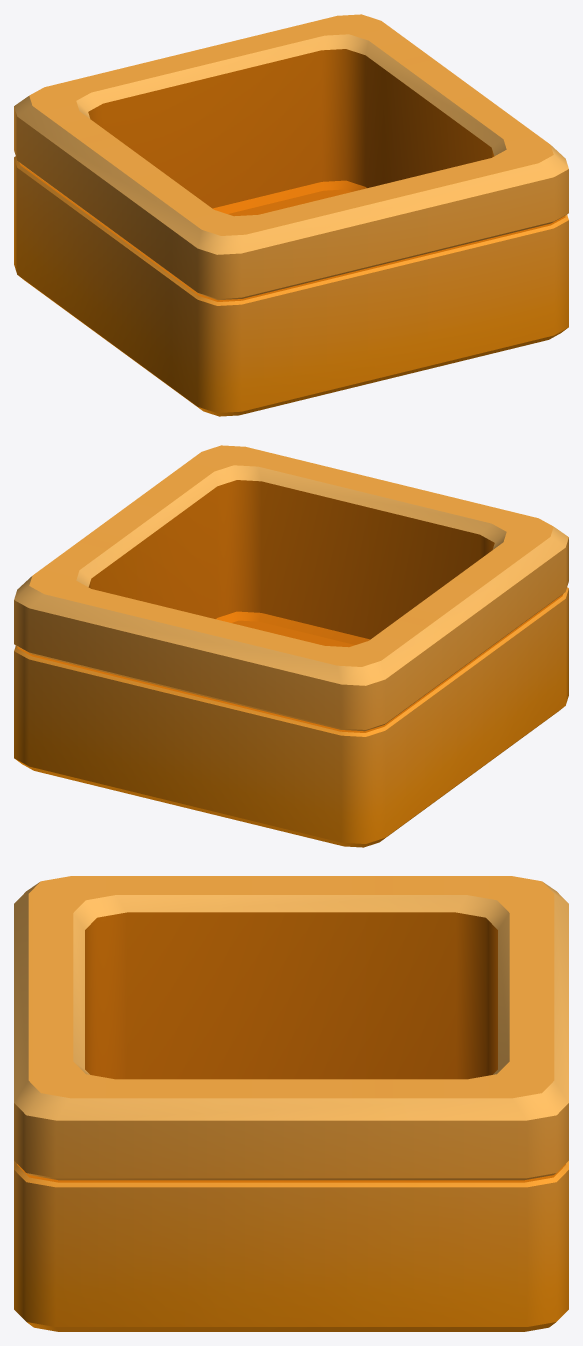
The model's file is Mdl_Box.fbx.
The picture shows the model from 3 angles, top to bottom: view 1: azimuth 30°, elevation 25°; view 2: azimuth 150°, elevation 25°; view 3: azimuth 270°, elevation 25°; orthographic projection. The views are drawn at different scales.
Parts seen in each view (by area): view 1: Mesh_Box; view 2: Mesh_Box; view 3: Mesh_Box.
Boxes of the visible parts, x1=… form: Mesh_Box: x1=14, y1=14, x2=568, y2=416; Mesh_Box: x1=14, y1=445, x2=568, y2=847; Mesh_Box: x1=14, y1=876, x2=568, y2=1331.
Bounding box in the file's own units: 520 × 239 × 520.
